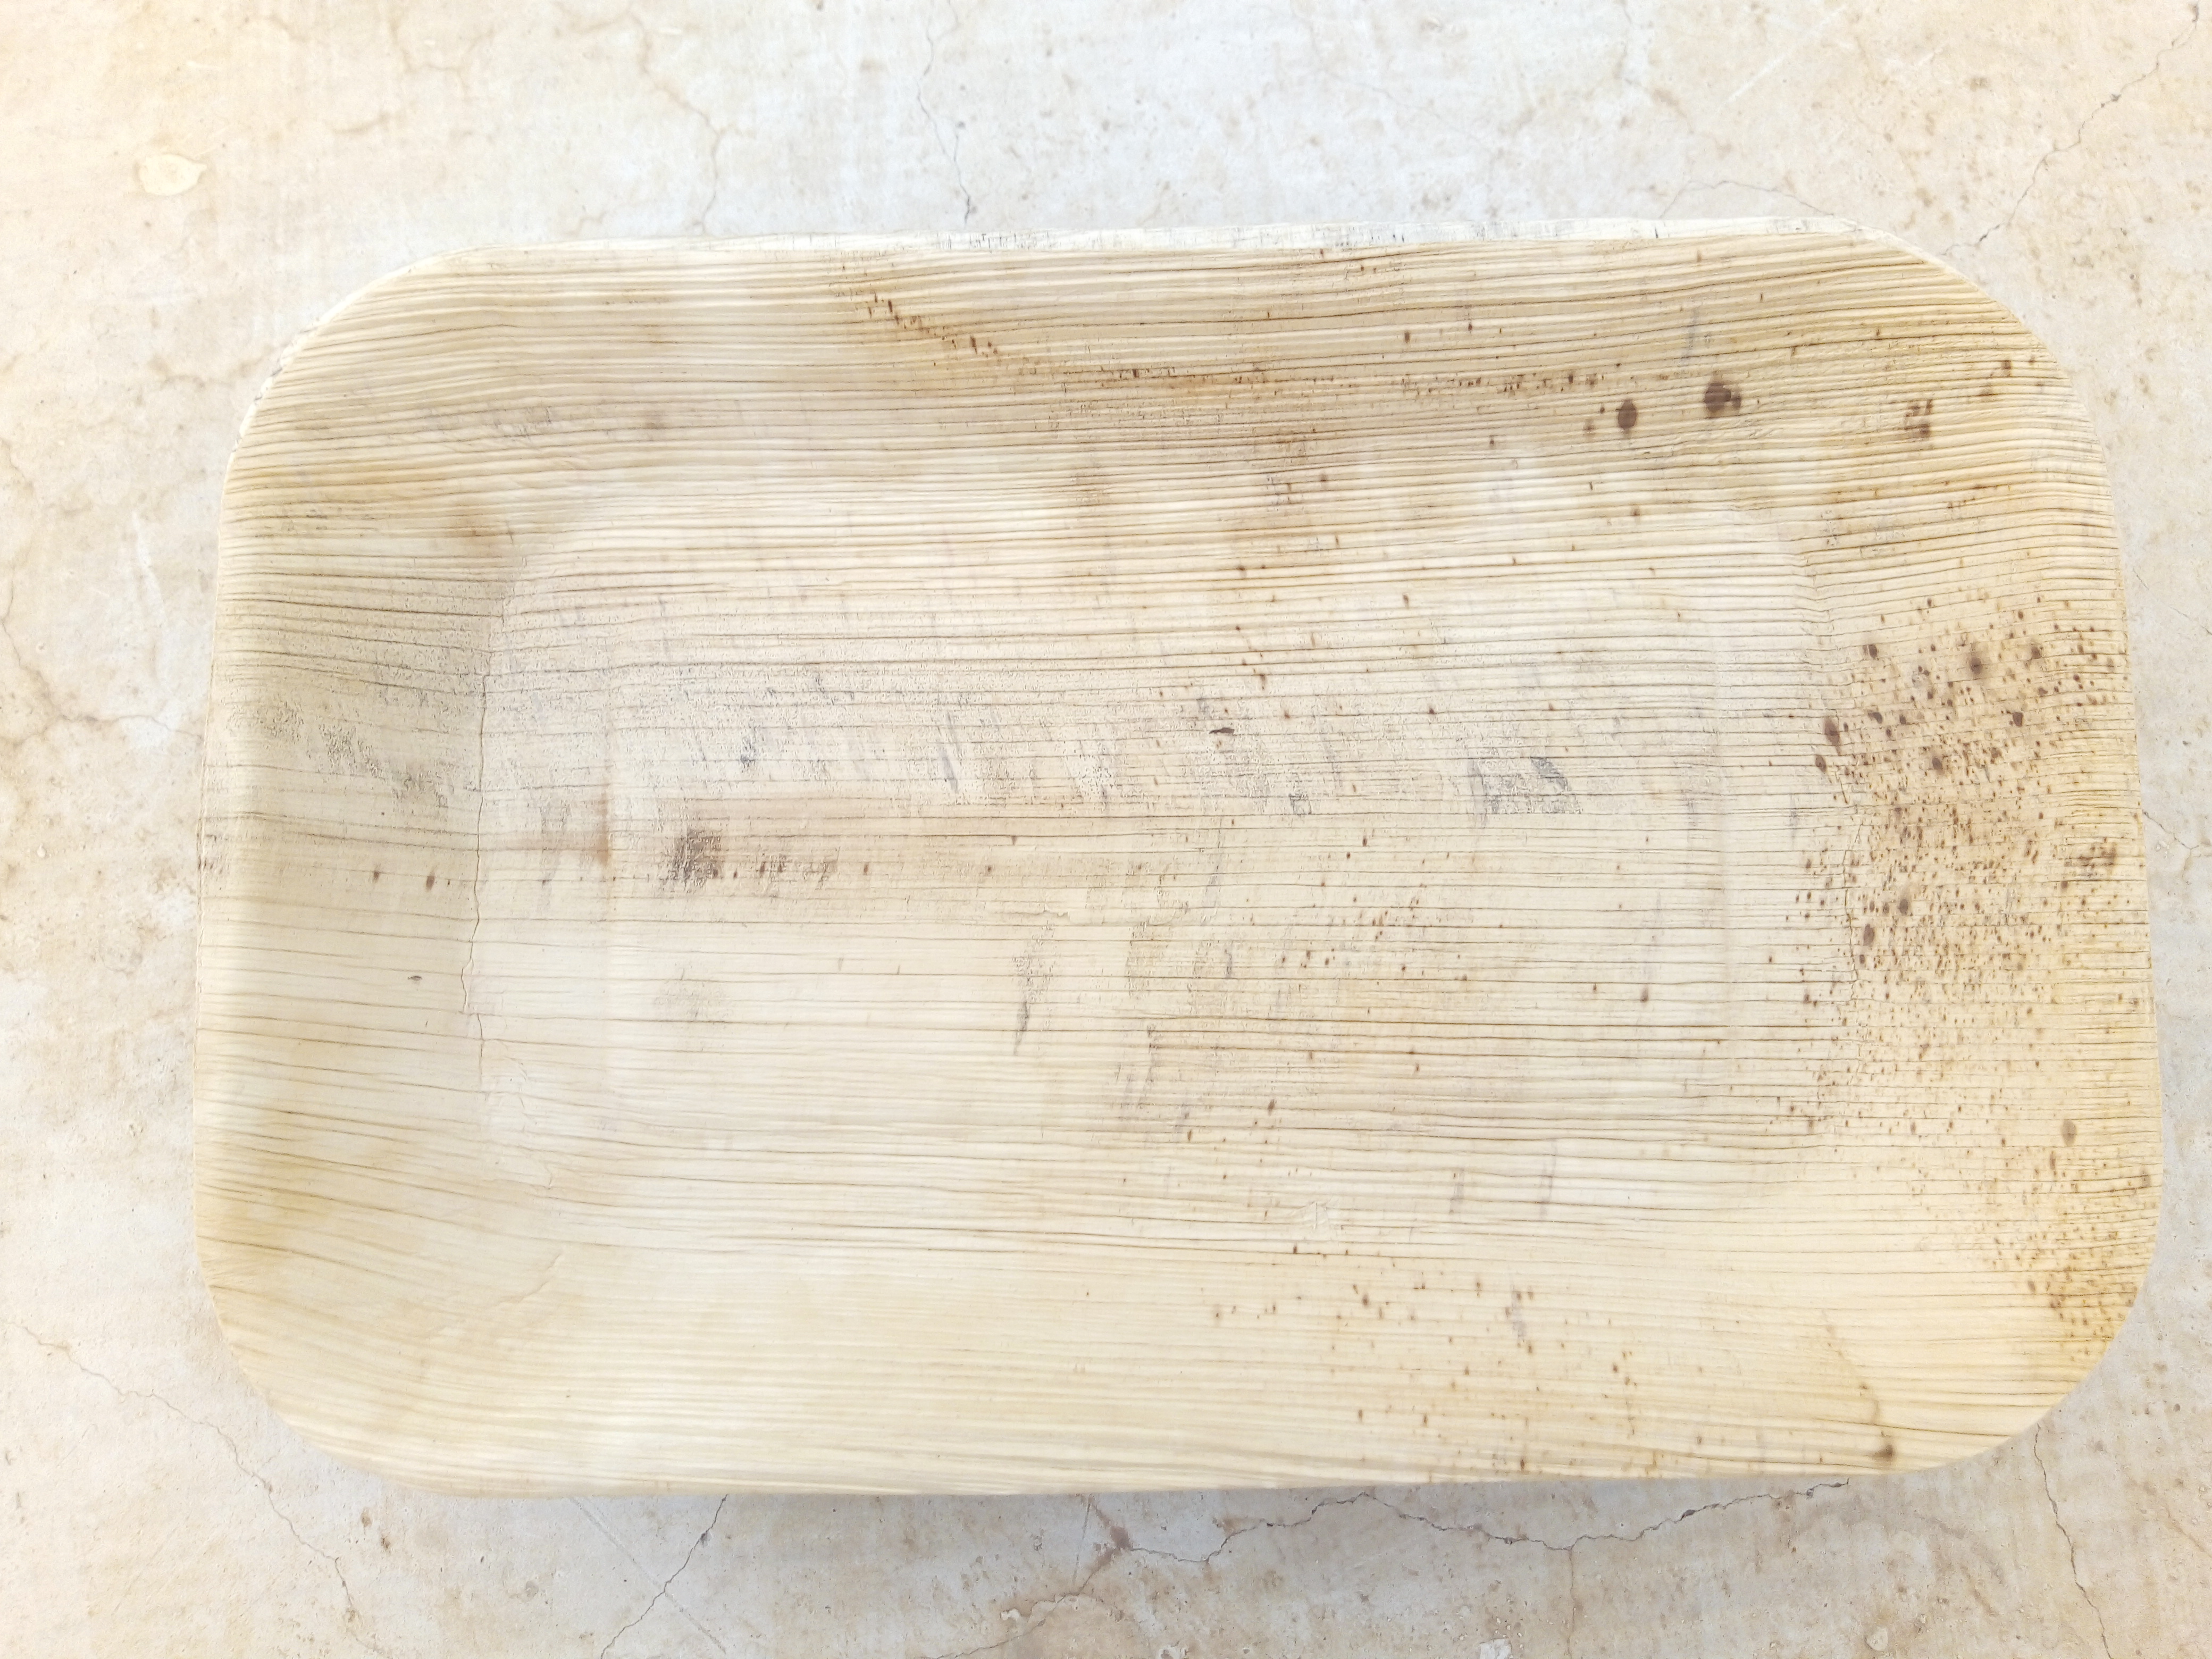areca plate: (218, 237, 2142, 1507)
